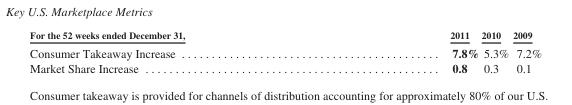table: (29, 28, 540, 74)
table column: (29, 28, 316, 74), (316, 28, 479, 74), (479, 28, 510, 74), (510, 28, 540, 74)
table column header: (29, 28, 540, 42)
table row: (29, 42, 540, 60), (29, 28, 540, 42), (29, 60, 540, 74)
